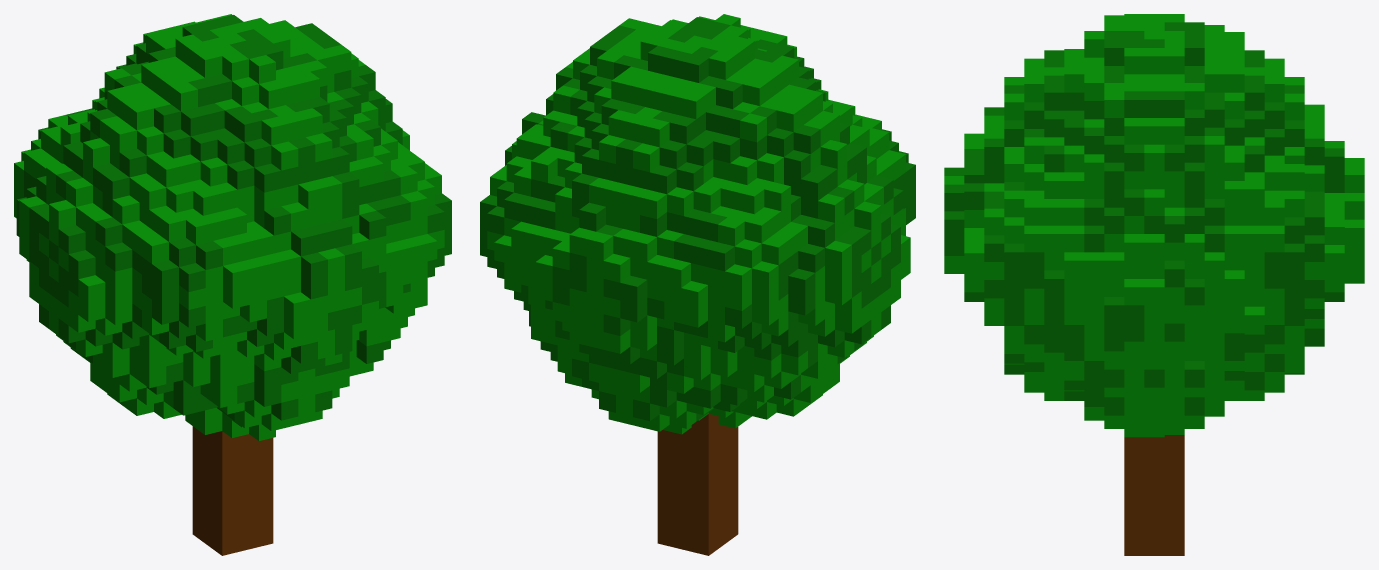
The model's file is tree3.obj.
3 renders of one model, left to right at view 1: azimuth 30°, elevation 25°; view 2: azimuth 150°, elevation 25°; view 3: azimuth 270°, elevation 25°, orthographic. The views are drawn at different scales.
Size of the model in its own units: 21 by 28 by 21.
1 material, 1 textured.
